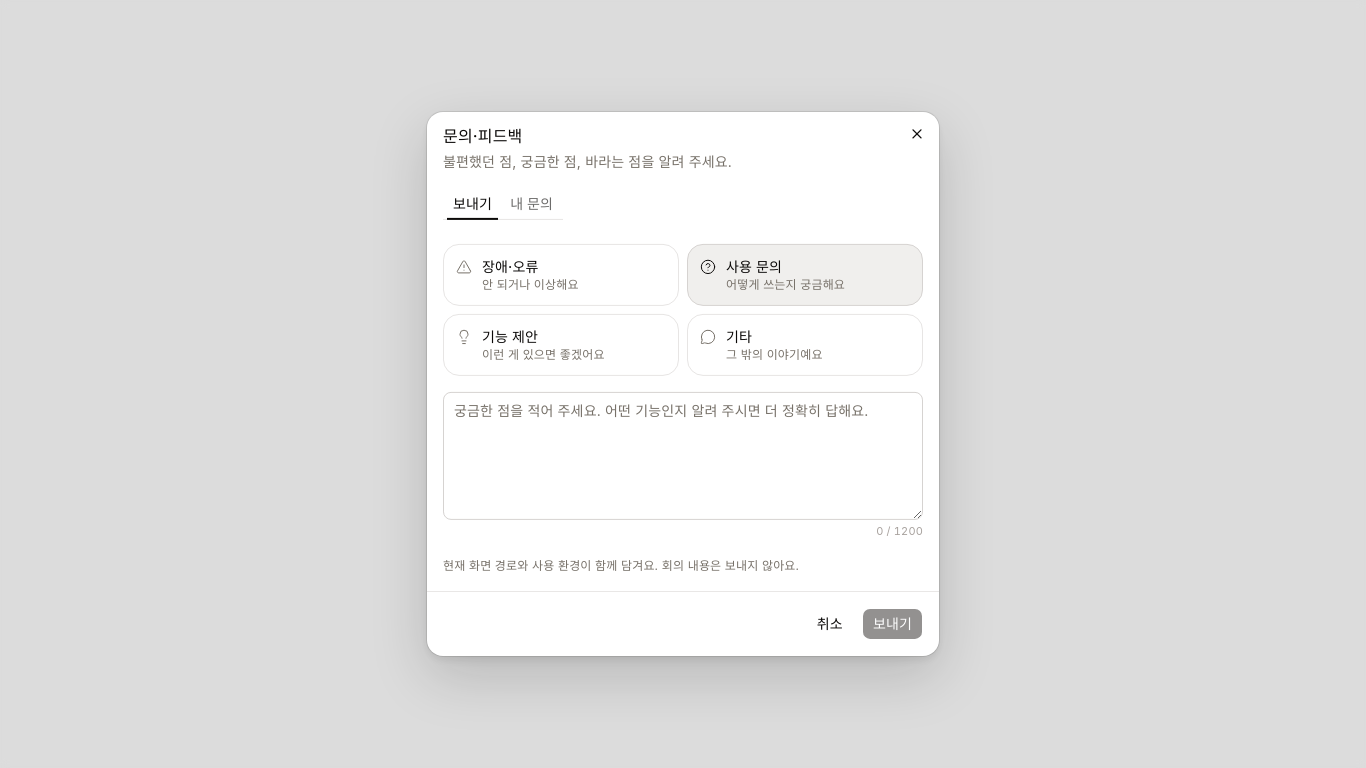
FeedbackDialog › 조회에 실패하면 빈 상태가 아니라 오류와 다시 시도를 보여 준다
Click the tab "내 문의" at (532, 203), box [503,191,560,215]
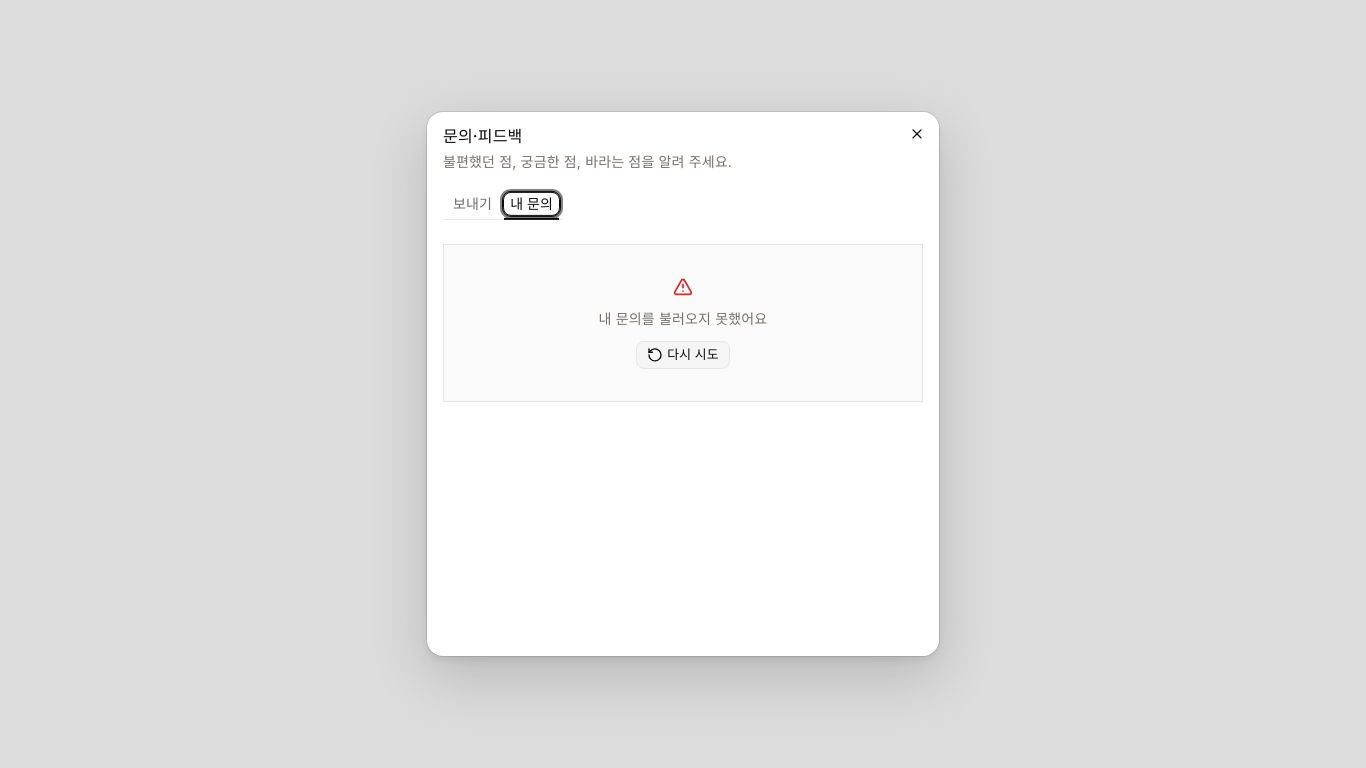
Now the text "내 문의를 불러오지 못했어요" is shown, box [599,309,767,329]
Now the button "다시 시도" is shown, box [636,341,730,369]
